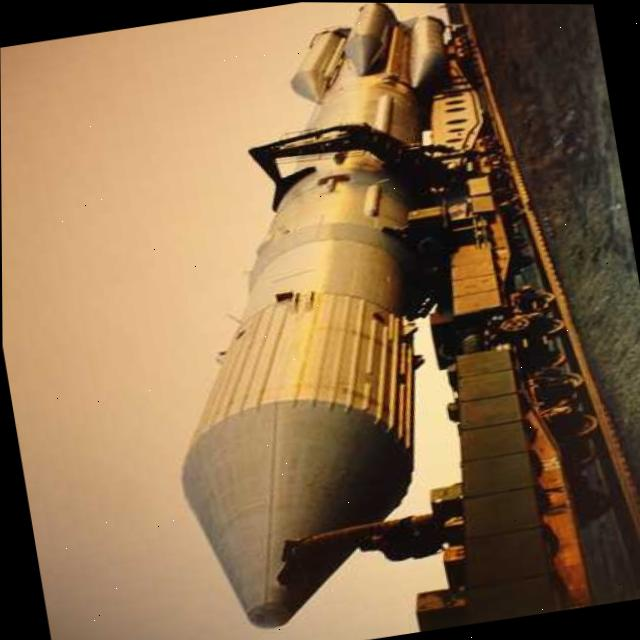missile: (105, 1, 540, 640)
